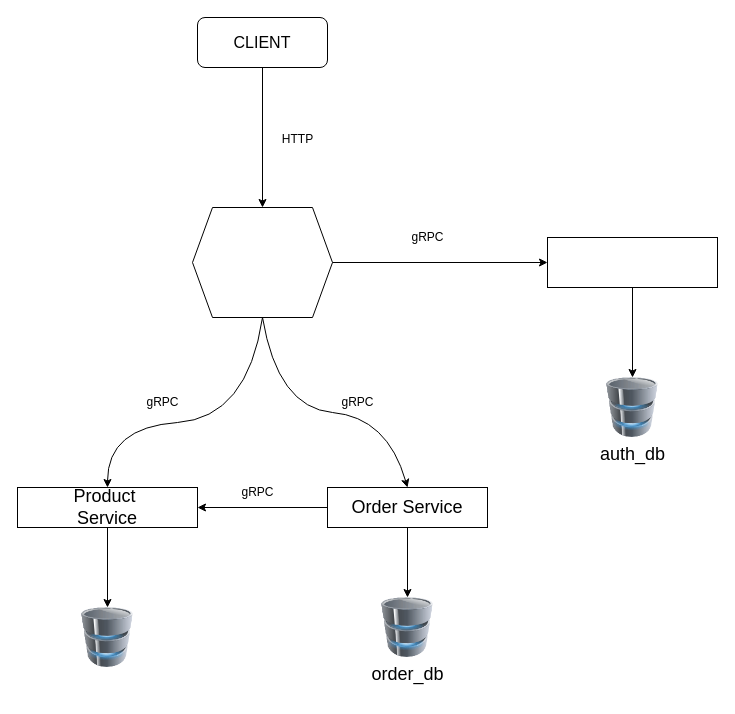
This 735x714 diagram has some shape labels left out. The shapes that lost their labels are listed below. From the top down, each one's centre as x and y in pixels, then its label:
the point at 262,262: API Gateway
the point at 632,262: Authentication Service
the point at 107,637: product_db
